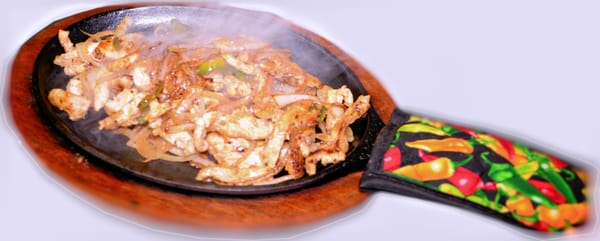sushi: (7, 4, 379, 205)
